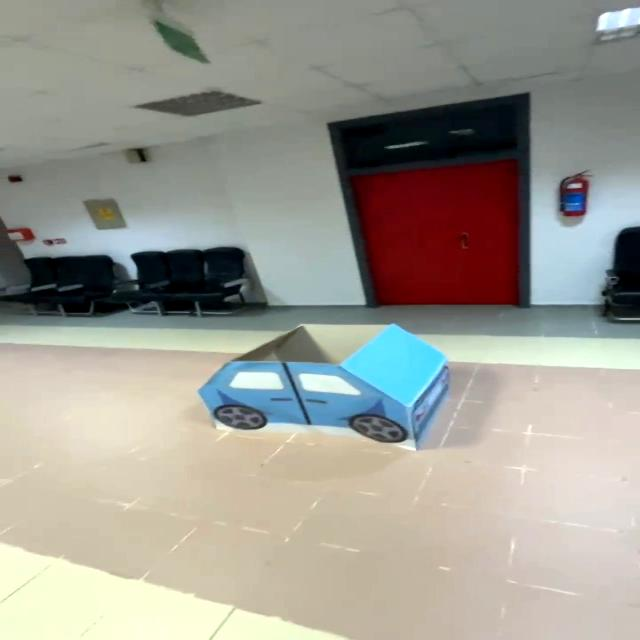blue_car: (178, 313, 476, 462)
